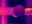Hotspot: (25, 8, 31, 12)
